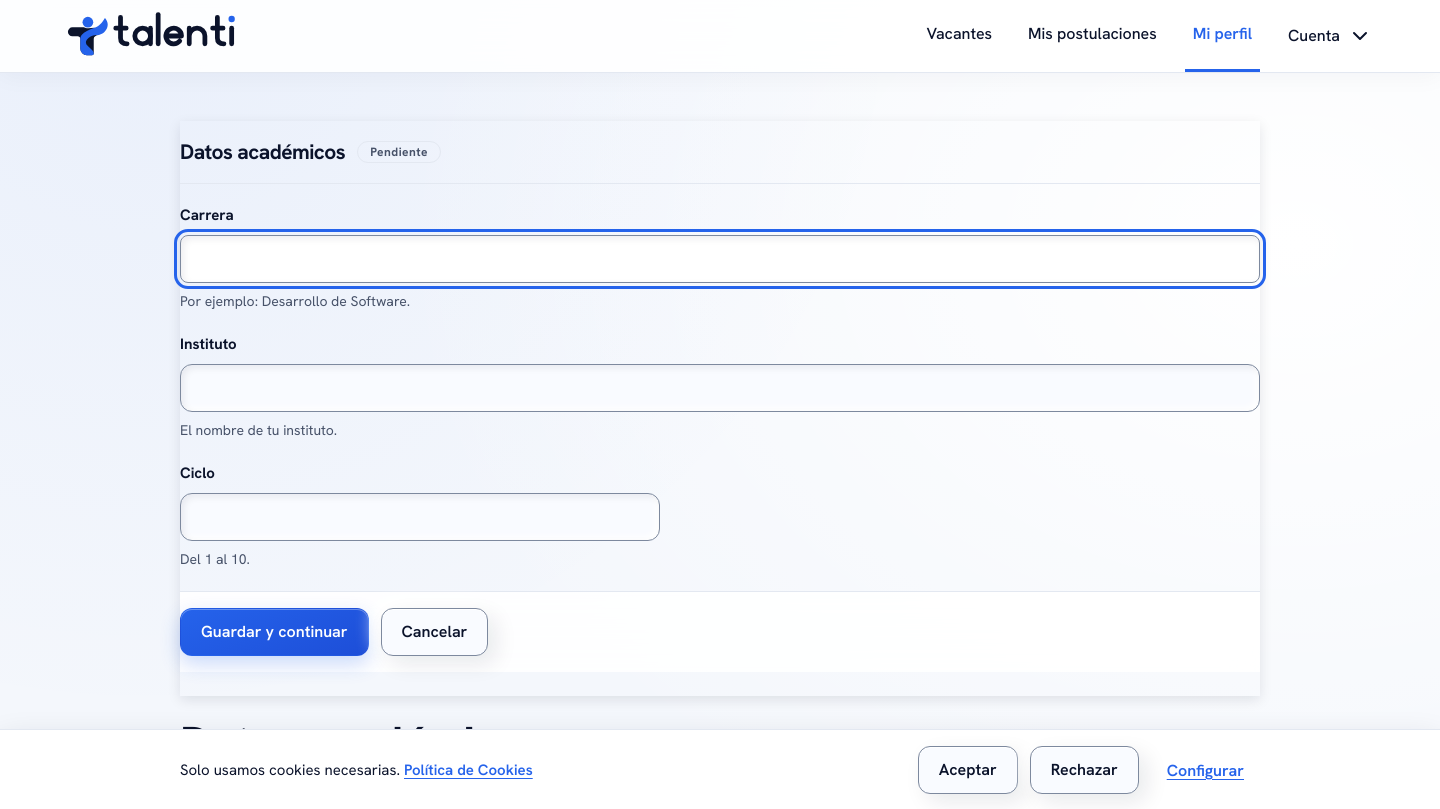
Test case: Datos académicos (006-05, 006-15, 006-19) › saves the section, shows "Guardado", goes back to read mode and updates the percentage without reloading
Type "Desarrollo de Software" into the field labelled "Carrera" at [720, 259], box [180, 235, 1260, 283]
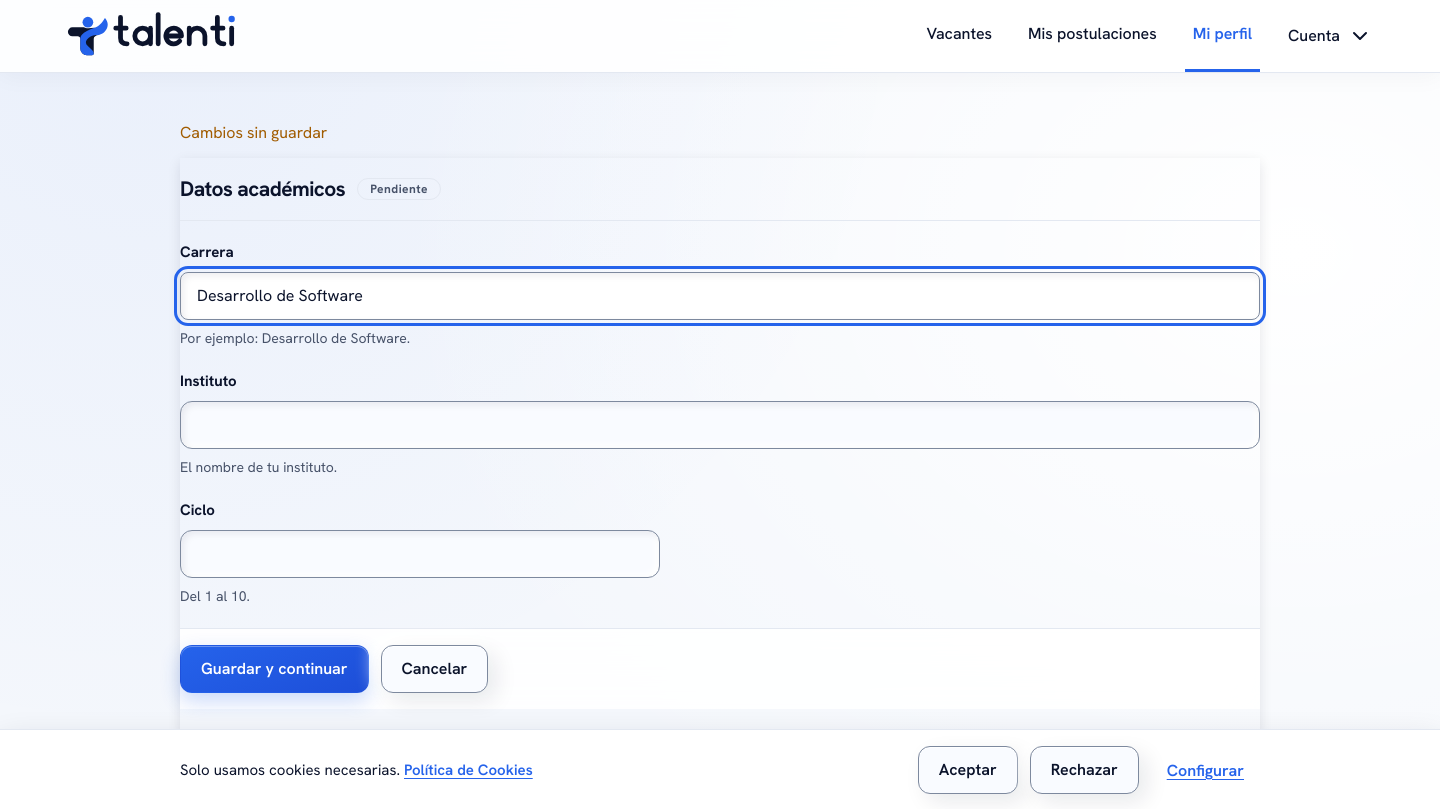
Type "Instituto Andino" into the field labelled "Instituto" at [720, 425], box [180, 401, 1260, 449]
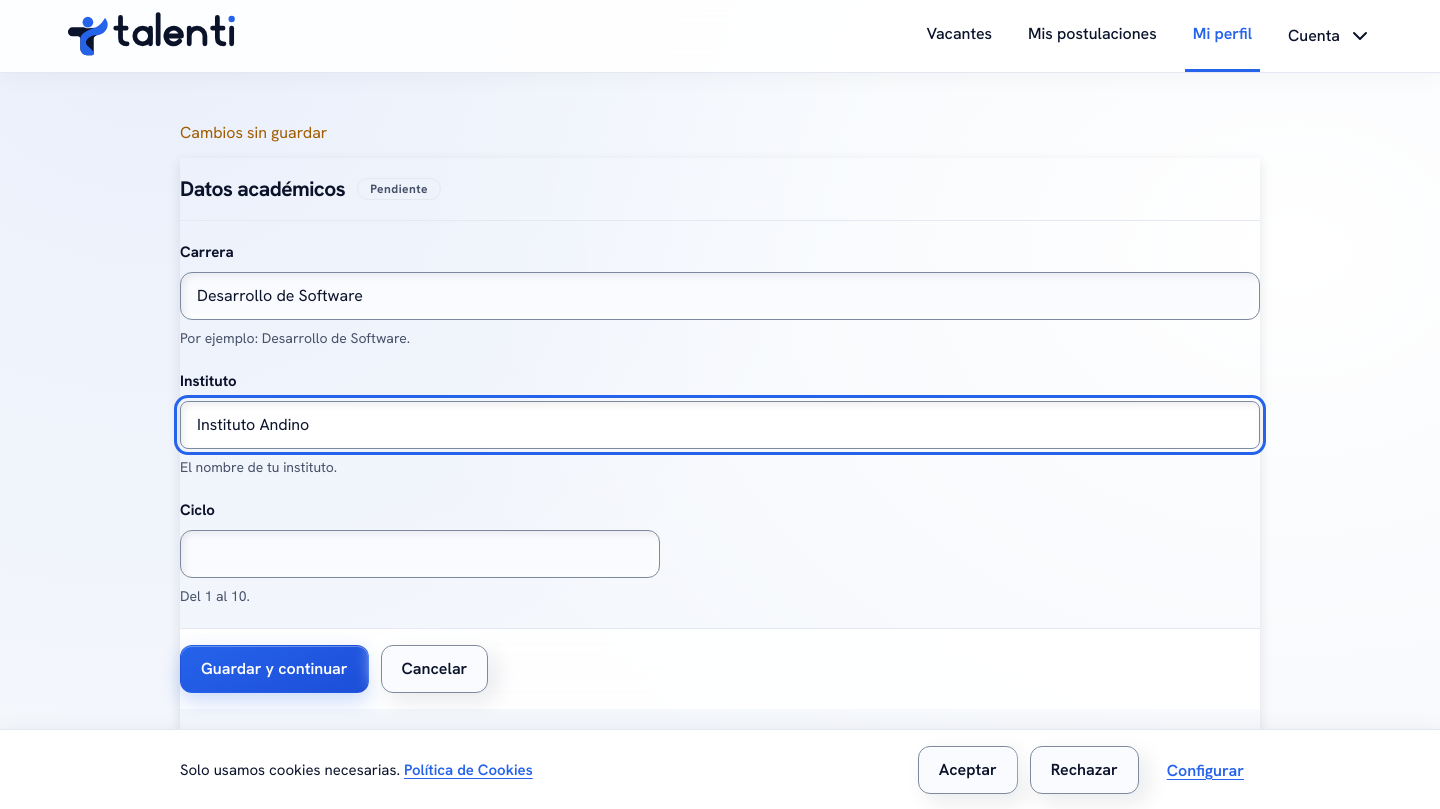
Type "5" into the field labelled "Ciclo" at [420, 554], box [180, 530, 660, 578]
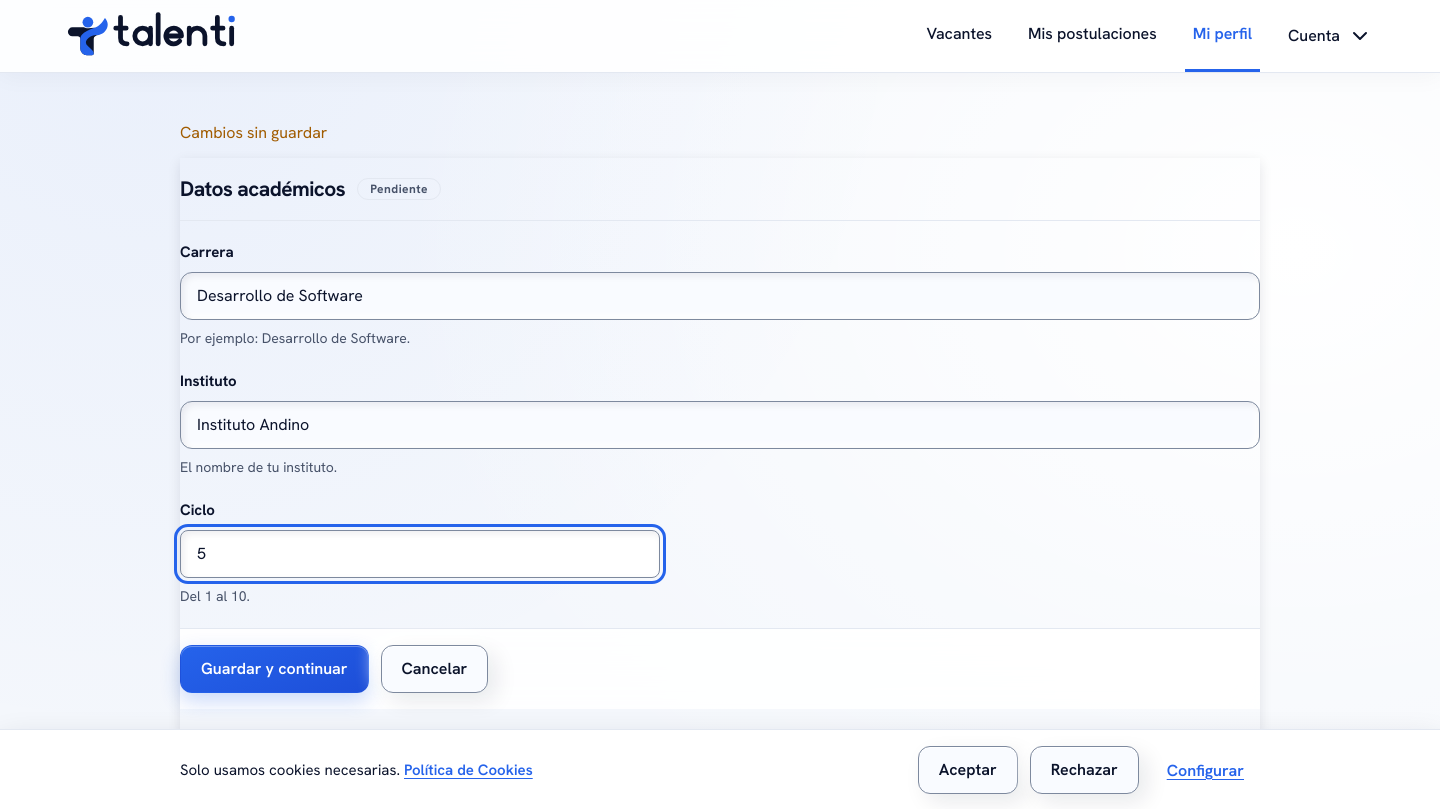
Click the button "Guardar y continuar" at [274, 669], box [180, 645, 368, 693]
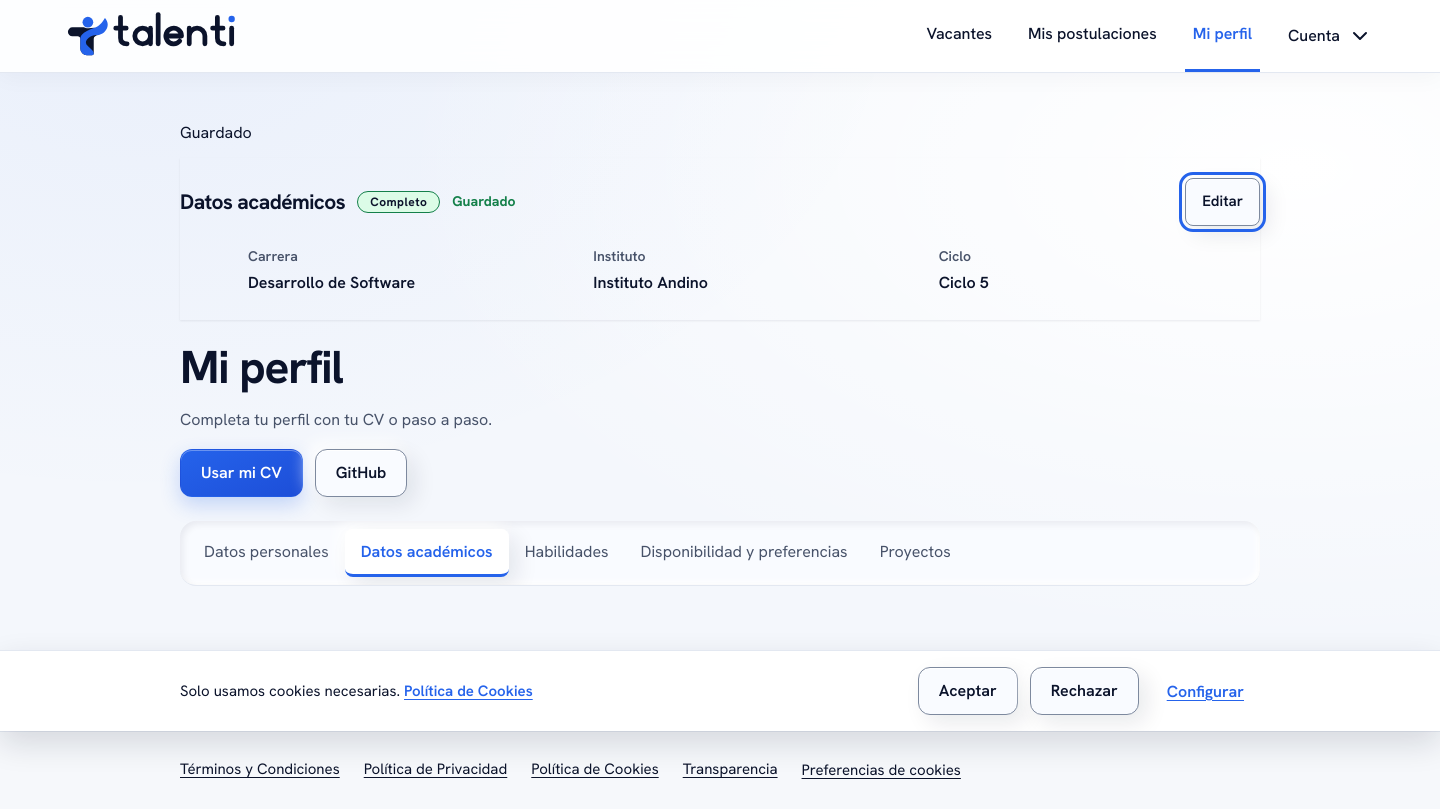
Now the message "Guardado" next to "Completo" is shown, box [452, 192, 516, 210]
